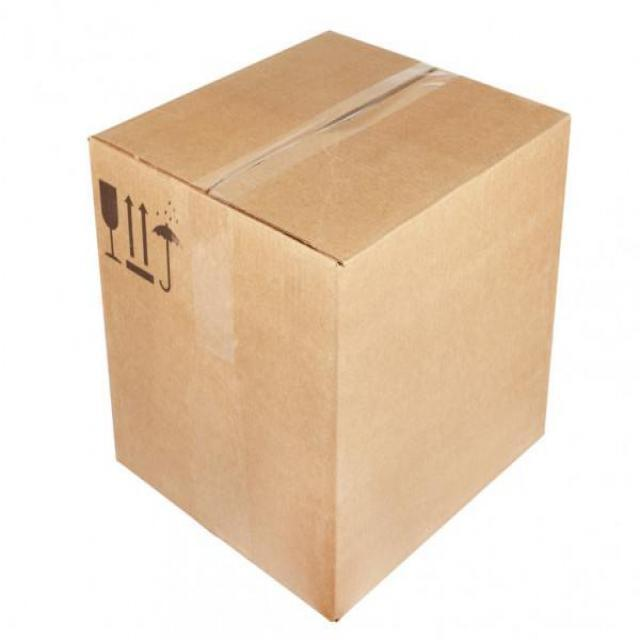box: (81, 21, 576, 628)
